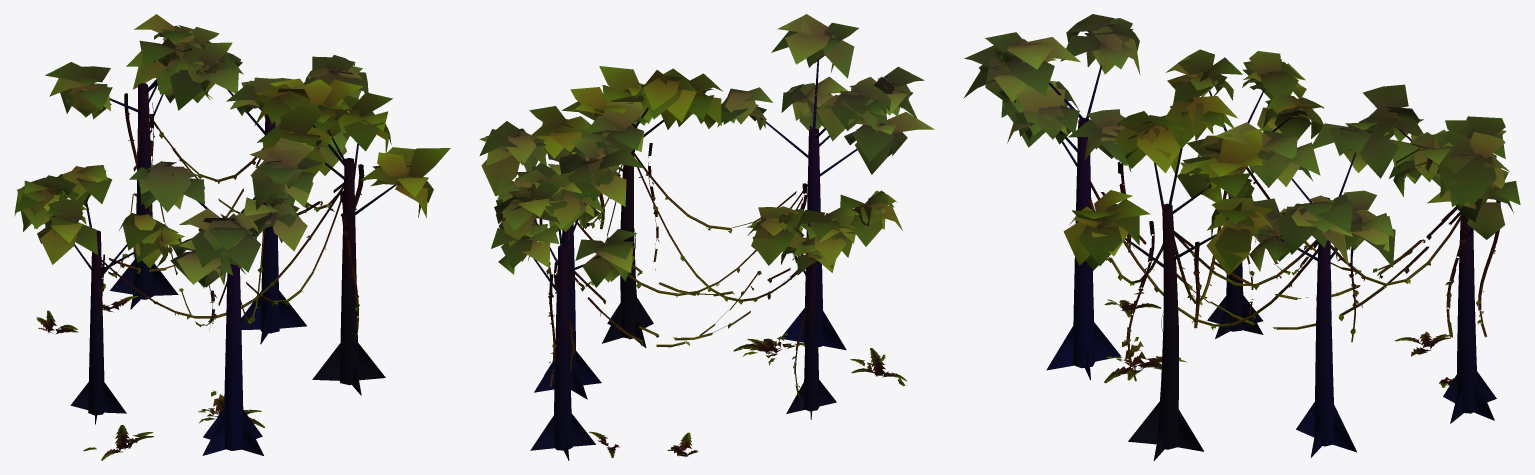
The model's file is patch_vine_hall_far.glb.
3 renders of one model, left to right at view 1: azimuth 30°, elevation 25°; view 2: azimuth 150°, elevation 25°; view 3: azimuth 270°, elevation 25°, orthographic. The views are drawn at different scales.
Parts seen in each view (by area): view 1: patch_vine_hall_far; view 2: patch_vine_hall_far; view 3: patch_vine_hall_far.
Boxes of the visible parts, box(x1,y1,x2,y2) form: patch_vine_hall_far: box(14, 14, 450, 460); patch_vine_hall_far: box(479, 14, 934, 460); patch_vine_hall_far: box(963, 14, 1520, 460).
Size of the model in its own units: 16.74 by 13.08 by 19.63.
Materials: 1 (1 with a texture image).
